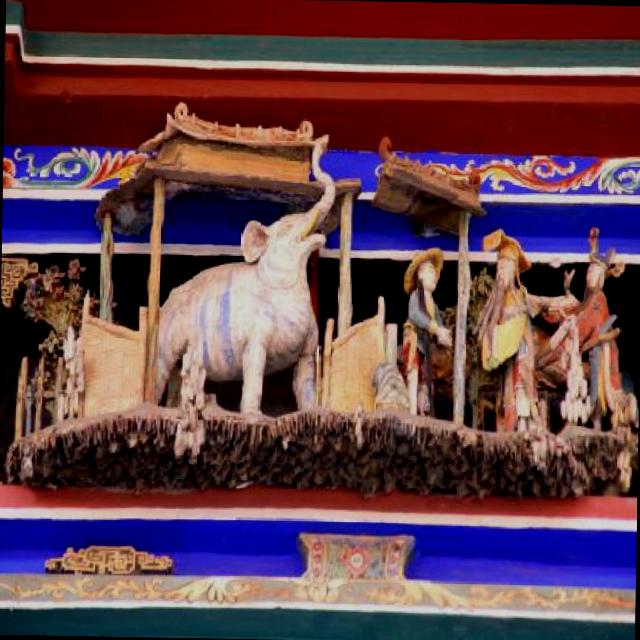Person: (478, 248, 581, 437), (546, 254, 632, 428), (399, 236, 452, 403)
